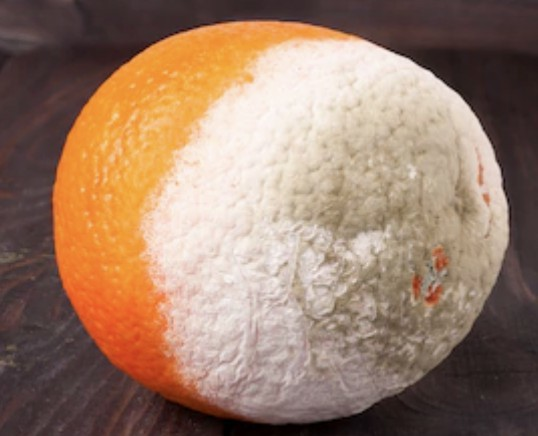rotten_orange: (58, 19, 512, 420)
